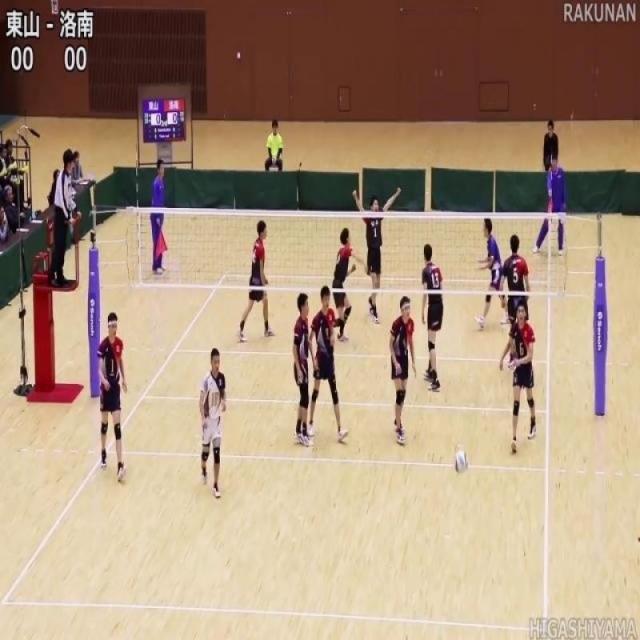volleyball: (453, 448, 469, 476)
